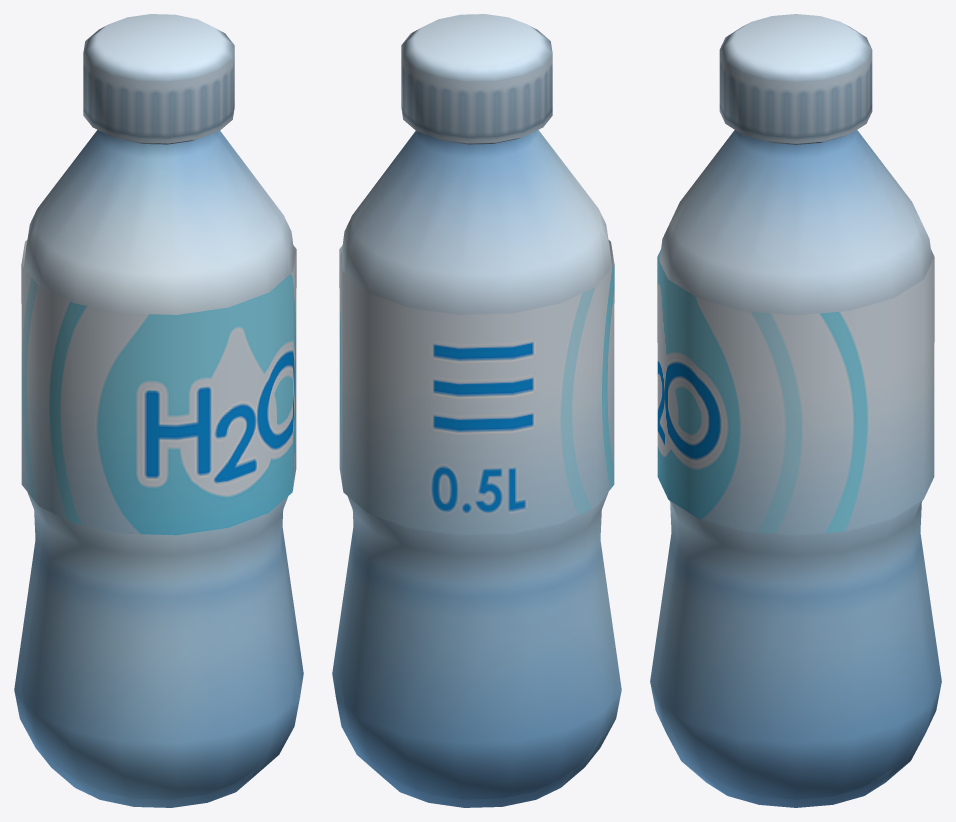
File: 004-Water_2.FBX
3 views of the same model, side by side, from view 1: azimuth 30°, elevation 25°; view 2: azimuth 150°, elevation 25°; view 3: azimuth 270°, elevation 25° (orthographic).
Visible parts, largest first — view 1: Water_Bottle_02, Water_Bottle_Label_02; view 2: Water_Bottle_02, Water_Bottle_Label_02; view 3: Water_Bottle_02, Water_Bottle_Label_02.
Part boxes in pixels (x1,y1,x2,y2): Water_Bottle_02: (14,130,303,807); Water_Bottle_Label_02: (21,14,296,535); Water_Bottle_02: (332,130,621,807); Water_Bottle_Label_02: (339,14,614,535); Water_Bottle_02: (650,130,941,807); Water_Bottle_Label_02: (657,14,934,535).
Size of the model in its own units: 12.42 by 34.13 by 12.42.
